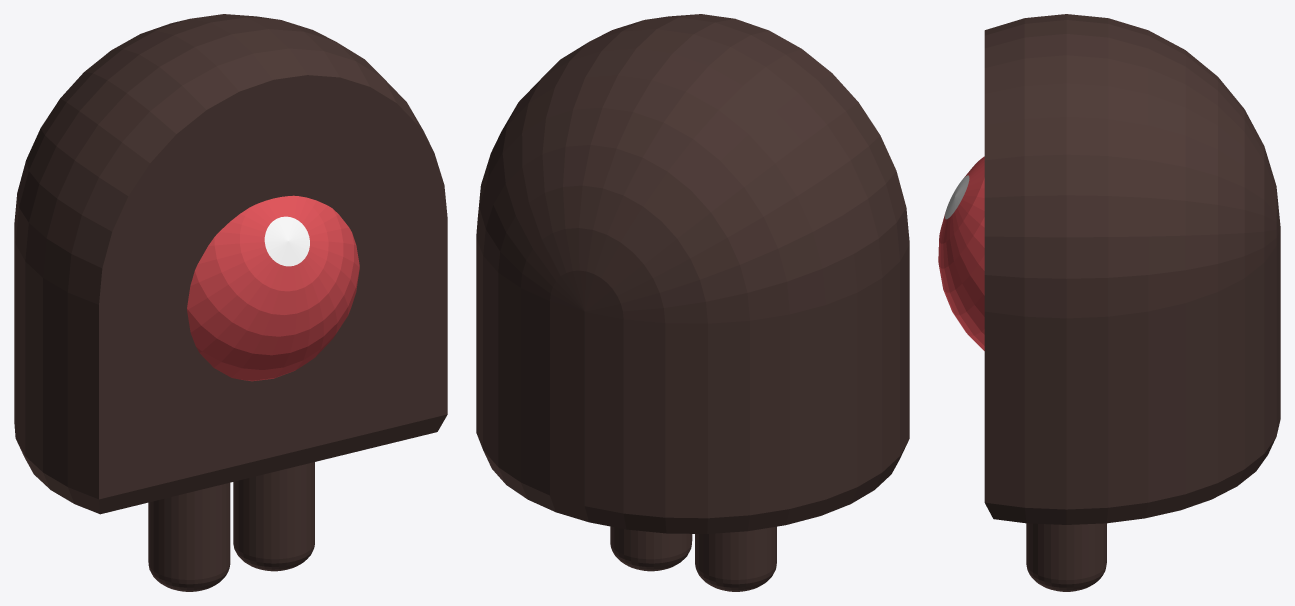
Rendered from mob_walk.glb.
3 views of the same model, side by side, from view 1: azimuth 30°, elevation 25°; view 2: azimuth 150°, elevation 25°; view 3: azimuth 270°, elevation 25° (orthographic).
Visible parts, largest first — view 1: Body, Eye, RightLeg, LeftLeg, Pupil; view 2: Body, RightLeg, LeftLeg; view 3: Body, Eye, LeftLeg.
Part boxes in pixels (<box>): Body: <box>14,14,447,514</box>; Eye: <box>187,195,359,381</box>; RightLeg: <box>148,482,230,591</box>; LeftLeg: <box>233,462,314,571</box>; Pupil: <box>264,216,309,266</box>; Body: <box>476,14,909,533</box>; RightLeg: <box>695,526,776,591</box>; LeftLeg: <box>610,526,692,571</box>; Body: <box>984,14,1280,524</box>; Eye: <box>938,156,984,350</box>; LeftLeg: <box>1026,523,1106,591</box>.
Size of the model in its own units: 2 by 2.74 by 1.6.
